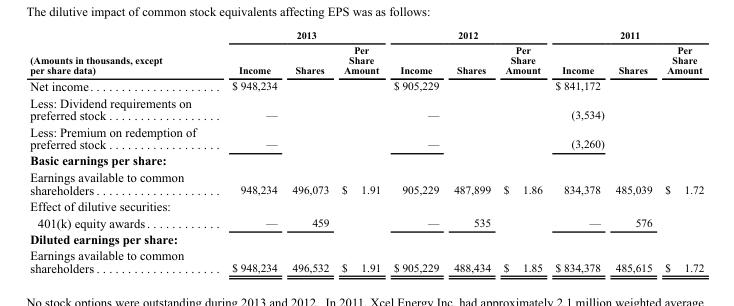table: (29, 28, 703, 274)
table column: (29, 28, 213, 274), (213, 28, 284, 274), (548, 28, 609, 274), (386, 28, 445, 274), (334, 28, 386, 274), (496, 28, 548, 274), (445, 28, 496, 274), (284, 28, 334, 274), (609, 28, 658, 274), (658, 28, 703, 274)
table column header: (29, 28, 703, 77)
table projected row header: (29, 197, 703, 214), (29, 152, 703, 168), (29, 230, 703, 246)
table row: (29, 41, 703, 77), (29, 94, 703, 123), (29, 123, 703, 152), (29, 168, 703, 197), (29, 246, 703, 274), (29, 77, 703, 94), (29, 197, 703, 214), (29, 152, 703, 168), (29, 214, 703, 230), (29, 230, 703, 246), (29, 28, 703, 41)
table spanning cell: (29, 28, 213, 77), (213, 28, 386, 41), (386, 28, 548, 41), (548, 28, 703, 41)
